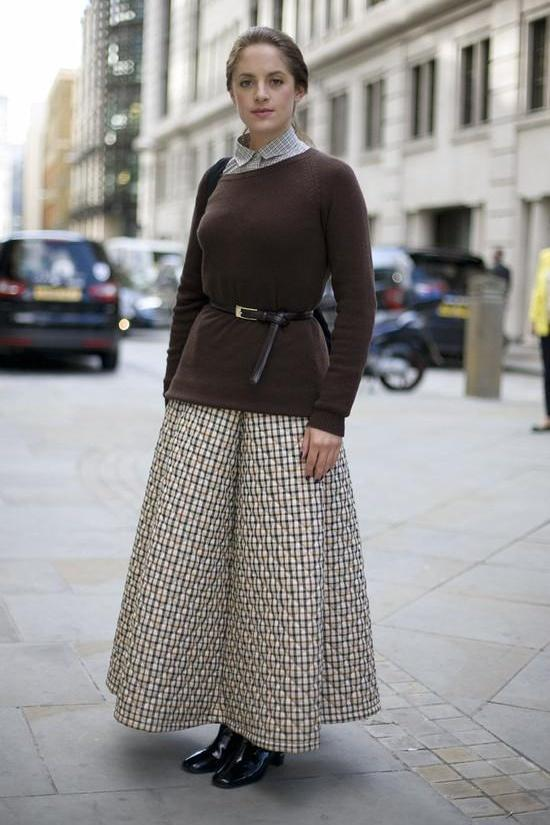skirt: (108, 314, 382, 752)
sweater: (163, 148, 376, 436)
